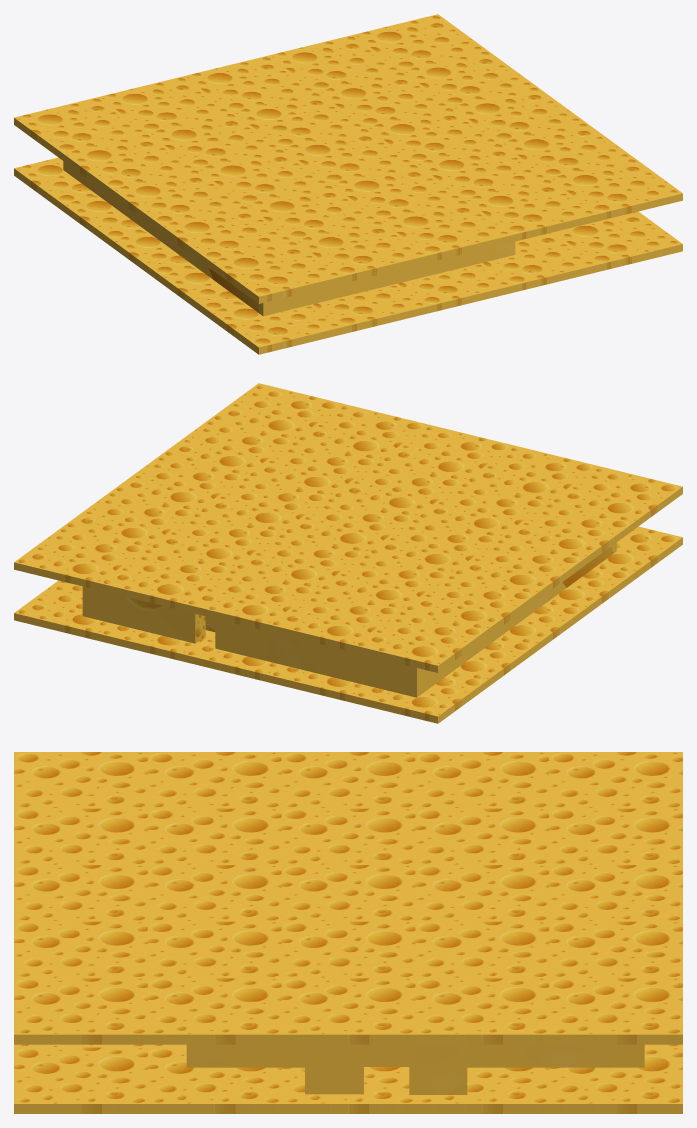
Rendered from Maze.fbx.
3 renders of one model, top to bottom at view 1: azimuth 30°, elevation 25°; view 2: azimuth 150°, elevation 25°; view 3: azimuth 270°, elevation 25°, orthographic. The views are drawn at different scales.
Visible parts, largest first — view 1: Roof, Floor, Walls; view 2: Roof, Floor, Walls; view 3: Roof, Floor, Walls.
Boxes of the visible parts, x1=… form: Roof: x1=14, y1=14, x2=682, y2=303; Floor: x1=14, y1=157, x2=682, y2=354; Walls: x1=63, y1=161, x2=515, y2=316; Roof: x1=14, y1=383, x2=682, y2=672; Floor: x1=14, y1=526, x2=682, y2=723; Walls: x1=82, y1=542, x2=616, y2=697; Roof: x1=14, y1=752, x2=682, y2=1044; Floor: x1=14, y1=1044, x2=682, y2=1113; Walls: x1=186, y1=1044, x2=644, y2=1094.
Bounding box in the file's own units: 6127 × 800 × 6127.
